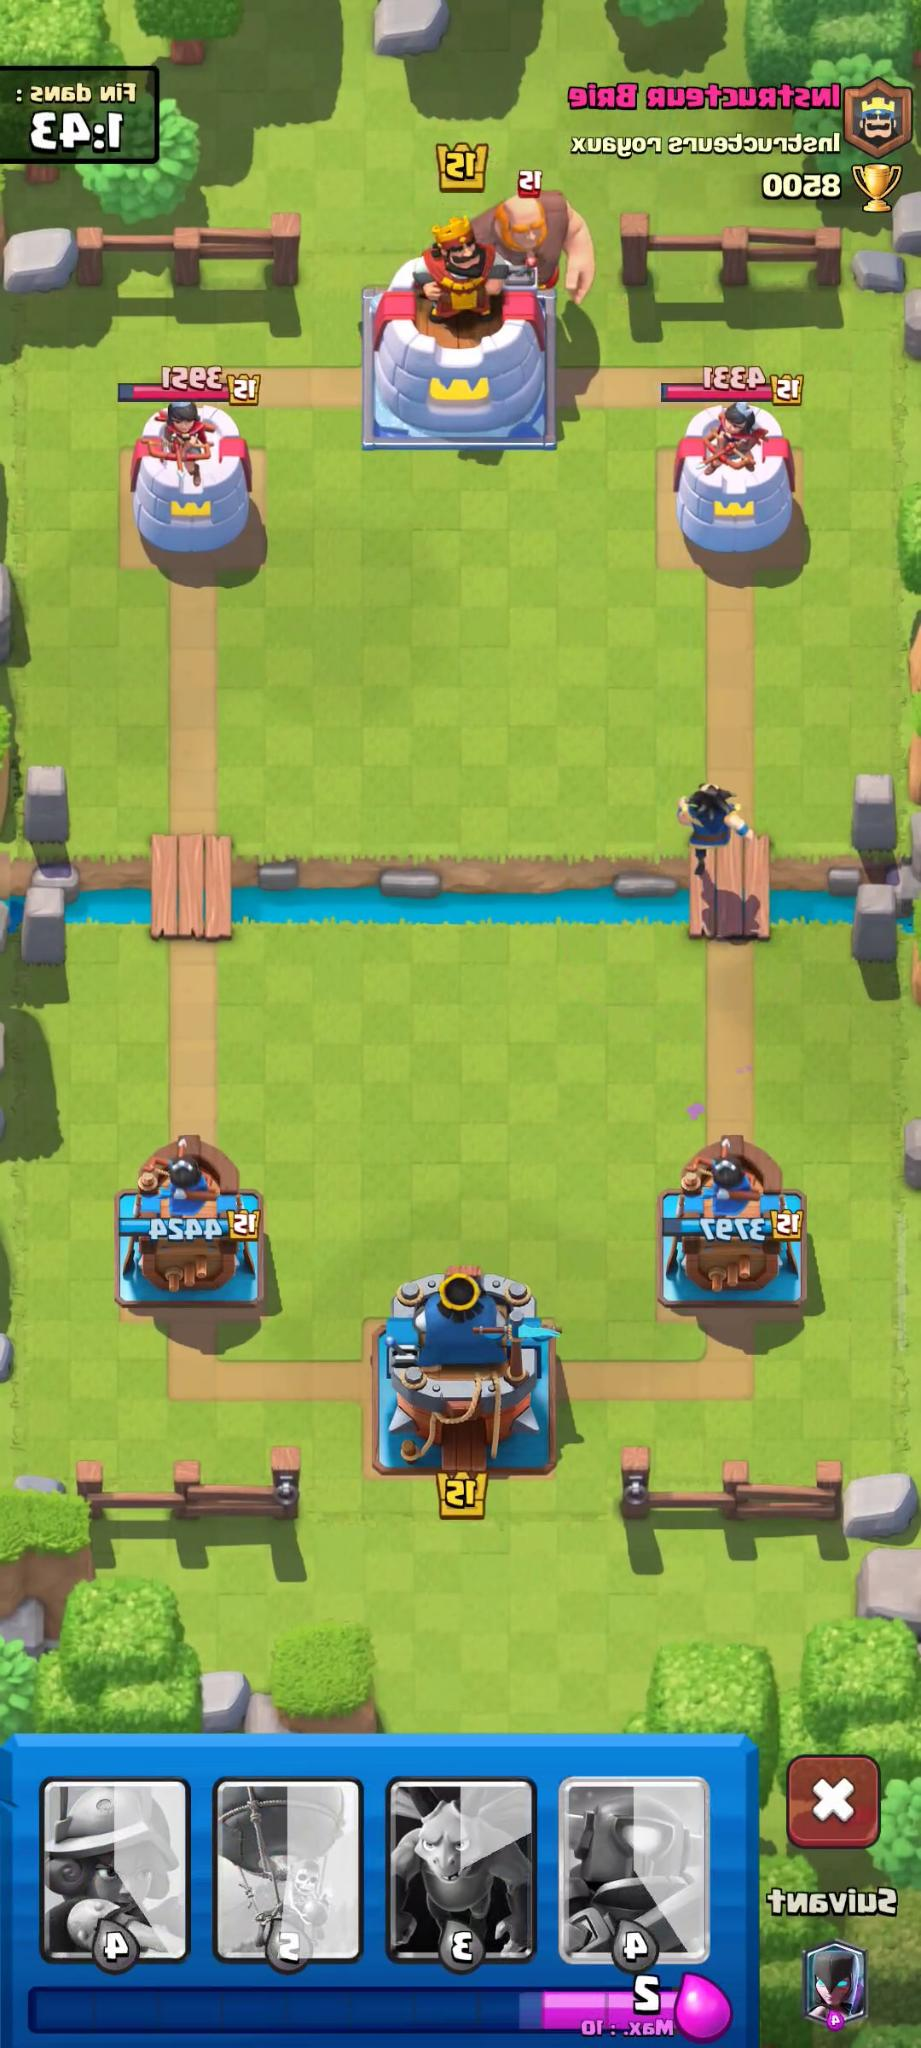geant: (435, 148, 602, 347)
